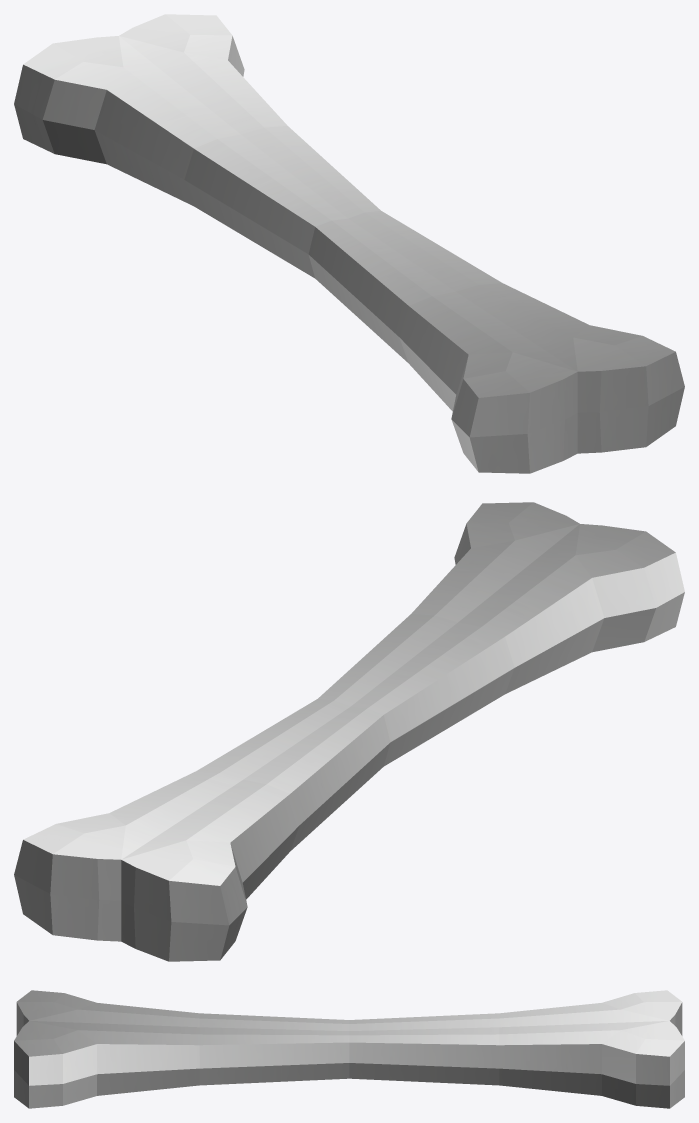
Rendered from Bone_2.fbx.
The picture shows the model from 3 angles, top to bottom: view 1: azimuth 30°, elevation 25°; view 2: azimuth 150°, elevation 25°; view 3: azimuth 270°, elevation 25°; orthographic projection. The views are drawn at different scales.
Parts seen in each view (by area): view 1: Bone 2; view 2: Bone 2; view 3: Bone 2.
Part boxes in pixels (<box>): Bone 2: <box>14,14,684,473</box>; Bone 2: <box>14,502,684,961</box>; Bone 2: <box>14,990,684,1108</box>.
Size of the model in its own units: 6.64 by 2.52 by 25.91.
